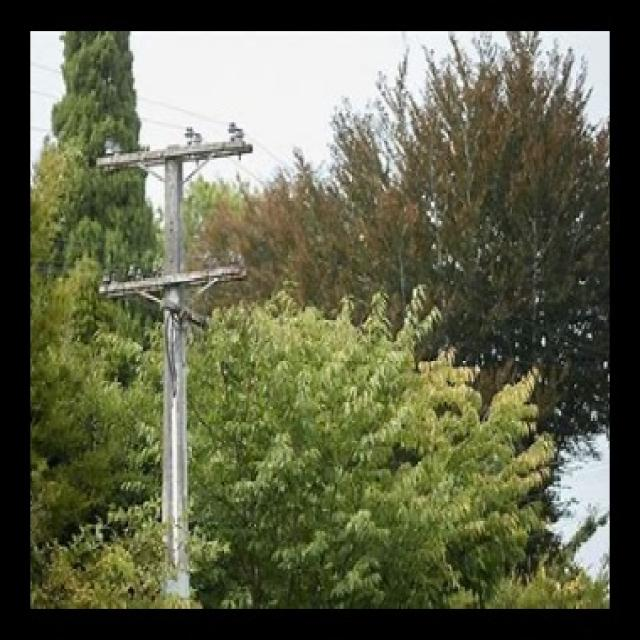utility poles: (102, 75, 251, 609)
